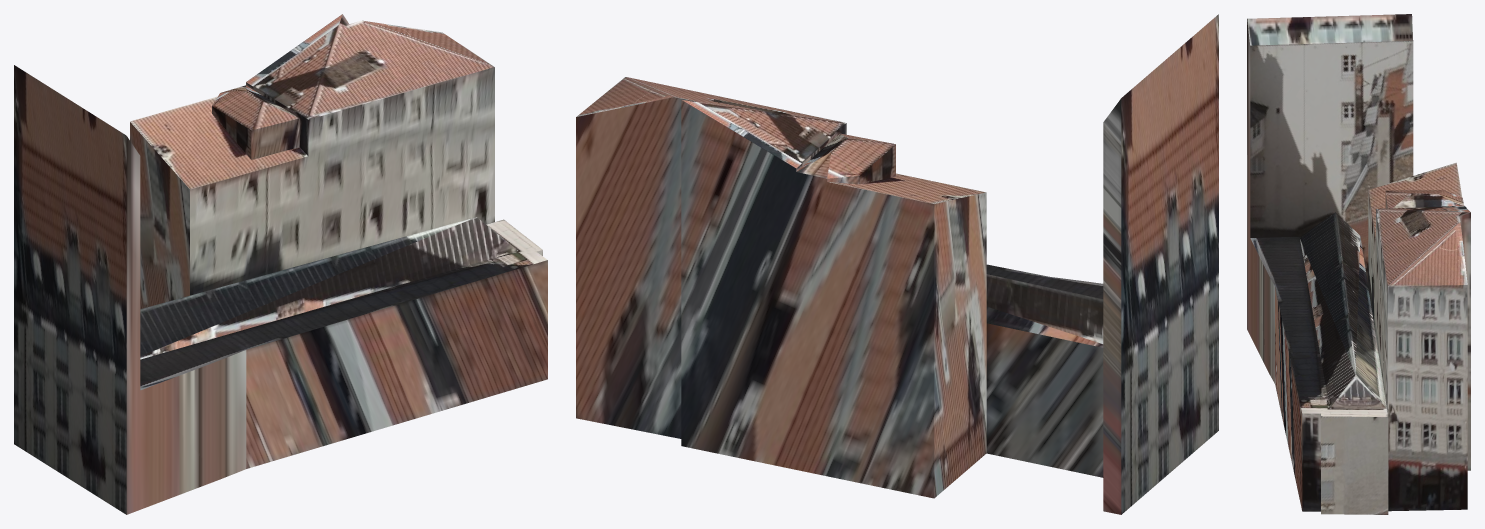
3 views of the same model, side by side, from view 1: azimuth 30°, elevation 25°; view 2: azimuth 150°, elevation 25°; view 3: azimuth 270°, elevation 25° (orthographic). The views are drawn at different scales.
Parts seen in each view (by area): view 1: Z_UP; view 2: Z_UP; view 3: Z_UP.
Part boxes in pixels (<box>): Z_UP: <box>14,14,547,514</box>; Z_UP: <box>576,14,1218,514</box>; Z_UP: <box>1247,14,1470,514</box>.
Bounding box in the file's own units: 33.5 × 25.55 × 16.66.
Materials: 2 (1 with a texture image).
